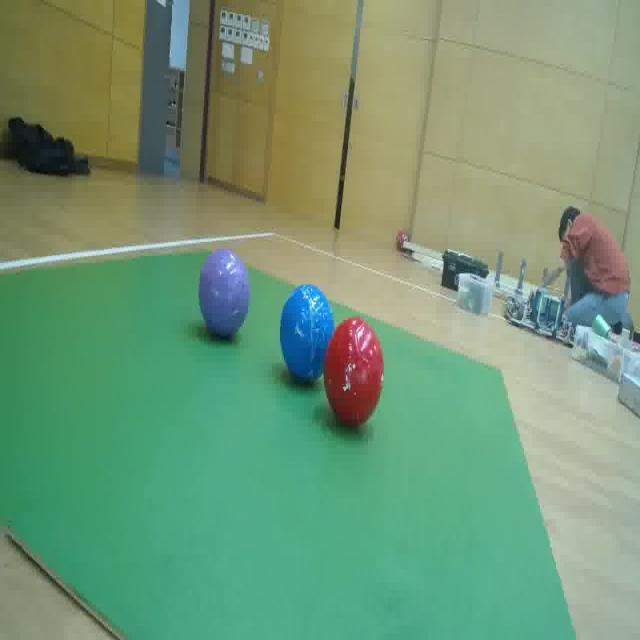blue_ball: (280, 284, 334, 382)
purple_ball: (199, 246, 249, 338)
red_ball: (325, 316, 385, 428)
